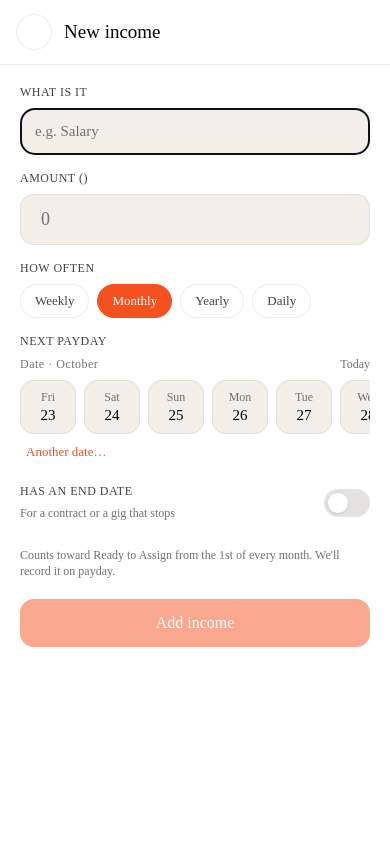
Scenario: hides the end date on a new income
Expected: the text "Ends" is not shown
Click the switch named "Has an end date": click(347, 502) [324,488,370,516]
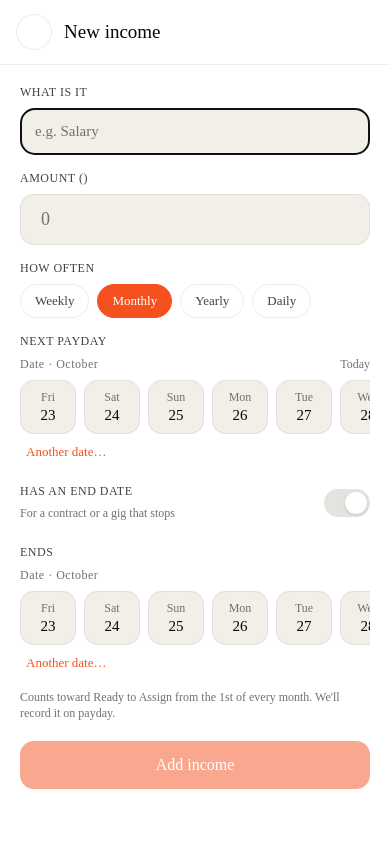
Result: the text "Ends" is shown at [20,545,53,559]
